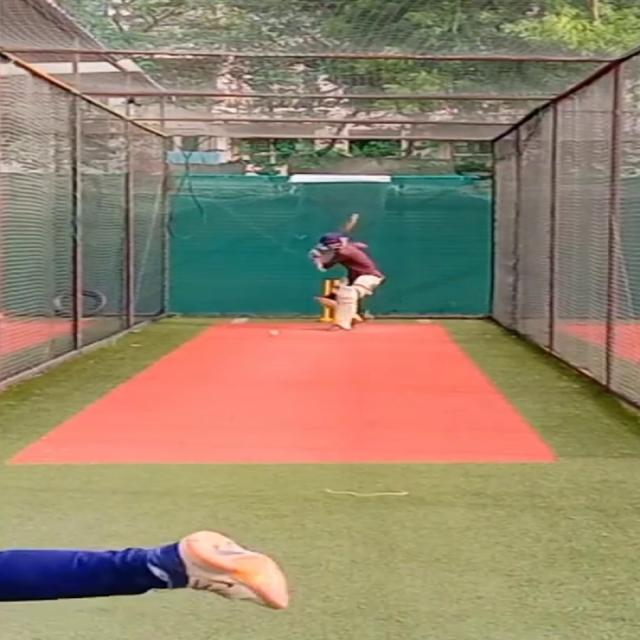stump: (319, 278, 335, 323)
